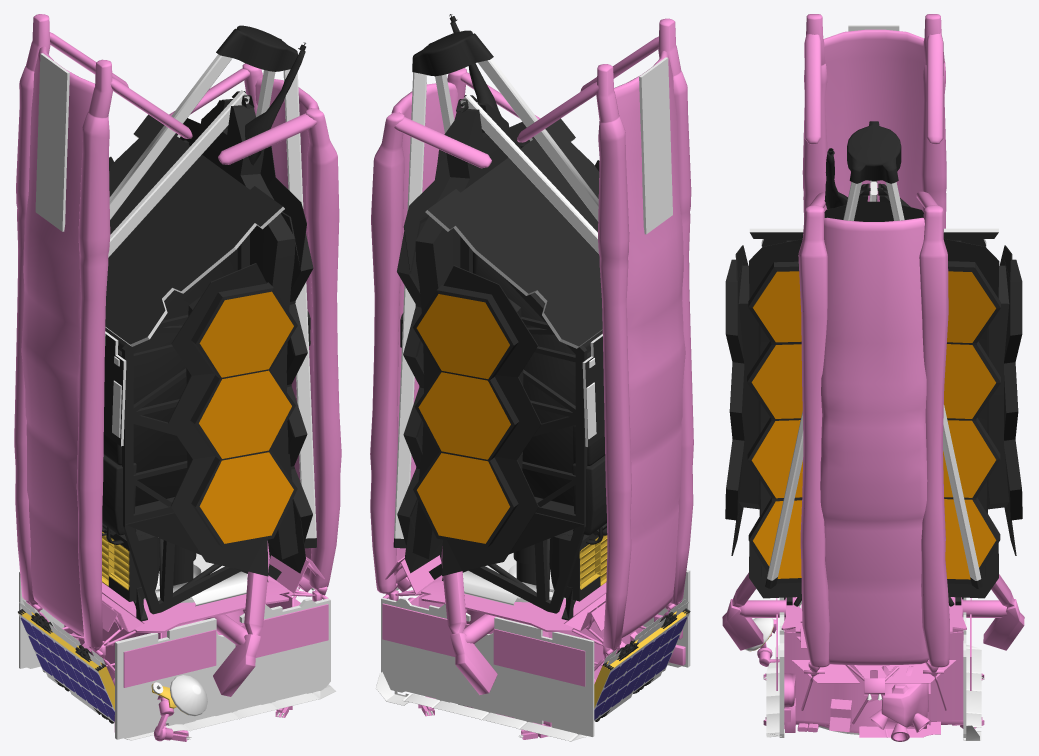
Rendered from webb_stowed.gltf.
The picture shows the model from 3 angles, left to right: view 1: azimuth 30°, elevation 25°; view 2: azimuth 150°, elevation 25°; view 3: azimuth 270°, elevation 25°; orthographic projection. The views are drawn at different scales.
Parts seen in each view (by area): view 1: JWSTstowed.021, JWSTstowed.054, Plane, JWSTstowed.022, Cube.008, JWSTstowed.081, Cylinder.006, JWSTstowed.079, JWSTstowed.026, Cube.014, Cube.007, Cylinder.022 (+22 smaller); view 2: JWSTstowed.021, JWSTstowed.057, Plane, JWSTstowed.022, Cube.010, JWSTstowed.081, Cylinder.006, JWSTstowed.079, JWSTstowed.026, Cube.012, Cube.007, Cylinder.022 (+21 smaller); view 3: JWSTstowed.022, Cylinder.022, JWSTstowed.021, JWSTstowed.054, JWSTstowed.057, JWSTstowed.001, JWSTstowed.081, JWSTstowed.072, JWSTstowed.083, JWSTstowed.1176, JWSTstowed.053, Cylinder.005 (+16 smaller).
Boxes of the visible parts, x1,y1,x2,y2 form: JWSTstowed.021: (14,14,192,647); JWSTstowed.054: (168,263,297,576); Plane: (105,114,284,346); JWSTstowed.022: (169,63,341,589); Cube.008: (115,598,330,739); JWSTstowed.081: (108,54,316,548); Cylinder.006: (118,140,281,614); JWSTstowed.079: (190,99,298,559); JWSTstowed.026: (105,248,237,506); Cube.014: (123,604,328,687); Cube.007: (35,53,69,231); Cylinder.022: (186,140,313,543); JWSTstowed.021: (517,18,693,648); JWSTstowed.057: (413,265,541,576); Plane: (425,118,602,348); JWSTstowed.022: (370,68,540,593); Cube.010: (381,597,594,736); JWSTstowed.081: (393,58,598,548); Cylinder.006: (429,144,590,613); JWSTstowed.079: (412,102,511,559); JWSTstowed.026: (472,251,602,506); Cube.012: (382,603,585,686); Cube.007: (639,57,672,234); Cylinder.022: (397,143,525,544); JWSTstowed.022: (798,191,949,667); Cylinder.022: (747,261,1000,584); JWSTstowed.021: (802,14,946,228); JWSTstowed.054: (725,245,759,555); JWSTstowed.057: (988,245,1022,555); JWSTstowed.001: (784,598,963,722); JWSTstowed.081: (765,180,982,588); JWSTstowed.072: (749,201,999,299); JWSTstowed.083: (847,121,901,183); JWSTstowed.1176: (869,666,930,741); JWSTstowed.053: (791,660,956,737); Cylinder.005: (722,572,785,650).
Size of the model in its own units: 4.43 by 10.49 by 4.5.
